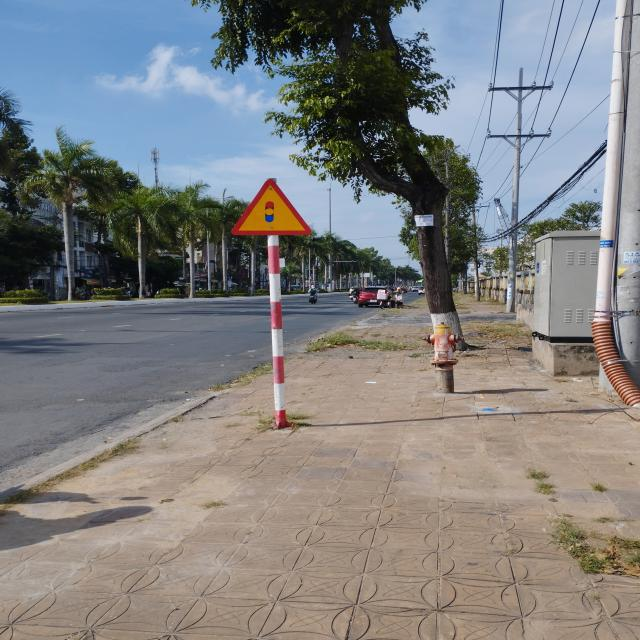Duong_Co_Go_Giam_Toc: (230, 178, 311, 234)
